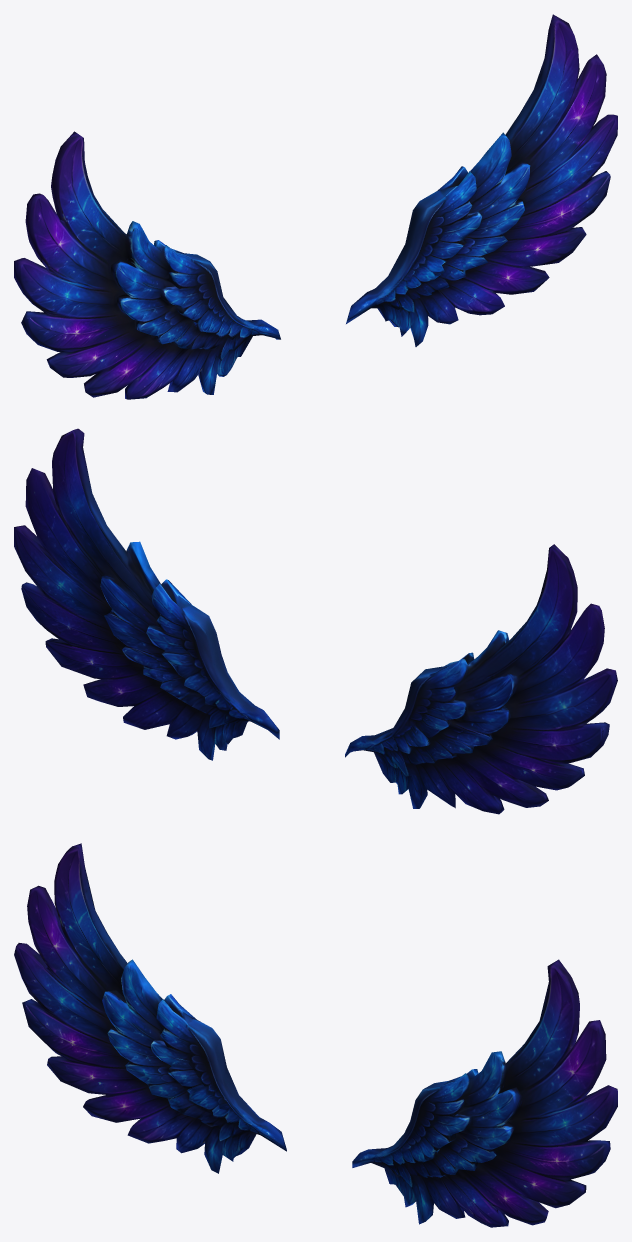
The model's file is black_navy.glb.
The picture shows the model from 3 angles, top to bottom: view 1: azimuth 30°, elevation 25°; view 2: azimuth 150°, elevation 25°; view 3: azimuth 330°, elevation 25°; orthographic projection.
Parts seen in each view (by area): view 1: tripo_node_ab3ac3c7-36ab-49dd-95f2-b1d34a3846cb; view 2: tripo_node_ab3ac3c7-36ab-49dd-95f2-b1d34a3846cb; view 3: tripo_node_ab3ac3c7-36ab-49dd-95f2-b1d34a3846cb.
Part boxes in pixels (bbox=[...]): tripo_node_ab3ac3c7-36ab-49dd-95f2-b1d34a3846cb: bbox=[14, 14, 617, 399]; tripo_node_ab3ac3c7-36ab-49dd-95f2-b1d34a3846cb: bbox=[14, 428, 617, 814]; tripo_node_ab3ac3c7-36ab-49dd-95f2-b1d34a3846cb: bbox=[14, 843, 617, 1227].
Bounding box in the file's own units: 1 × 0.4735 × 0.0532.
1 material, 1 textured.
